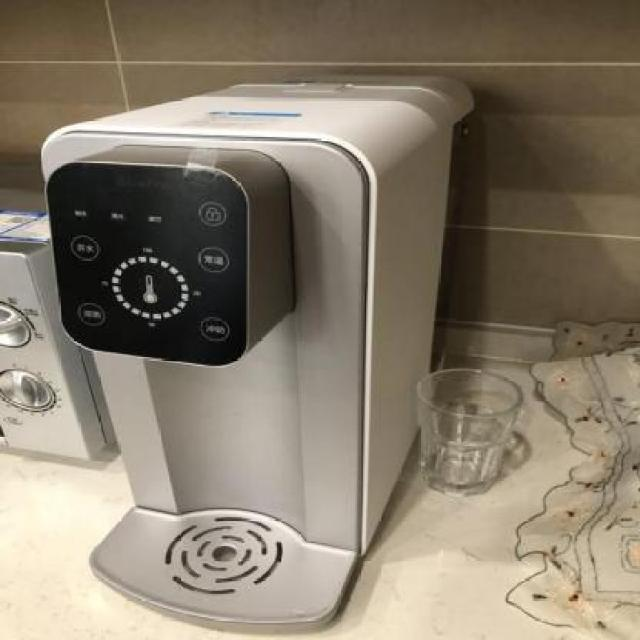cooler: (44, 80, 484, 637)
